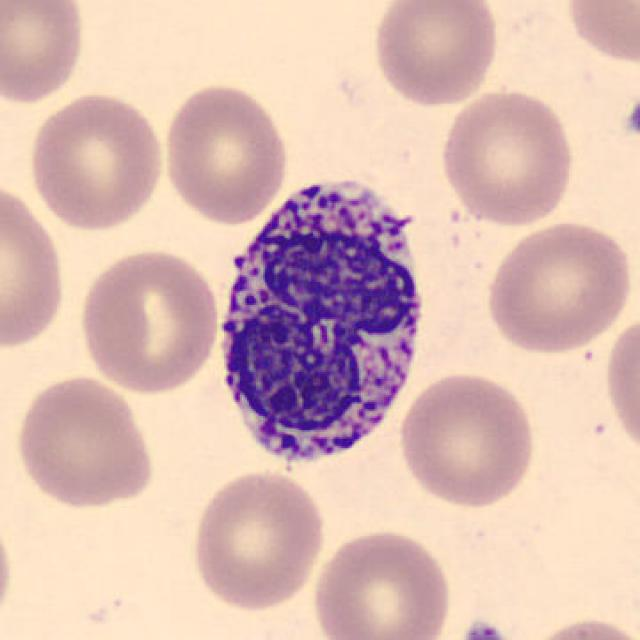Basophil: (204, 159, 434, 485)
Platelets: (455, 617, 514, 640), (620, 95, 640, 145)
RBC: (75, 245, 224, 397), (25, 88, 169, 235), (482, 217, 634, 356), (394, 368, 540, 512), (187, 466, 329, 614), (436, 85, 580, 229), (11, 372, 158, 511), (158, 79, 292, 226), (309, 525, 455, 640), (368, 0, 503, 108), (0, 176, 69, 354), (0, 0, 89, 108), (601, 306, 640, 464), (560, 0, 640, 69), (521, 612, 638, 640), (0, 506, 18, 635)
